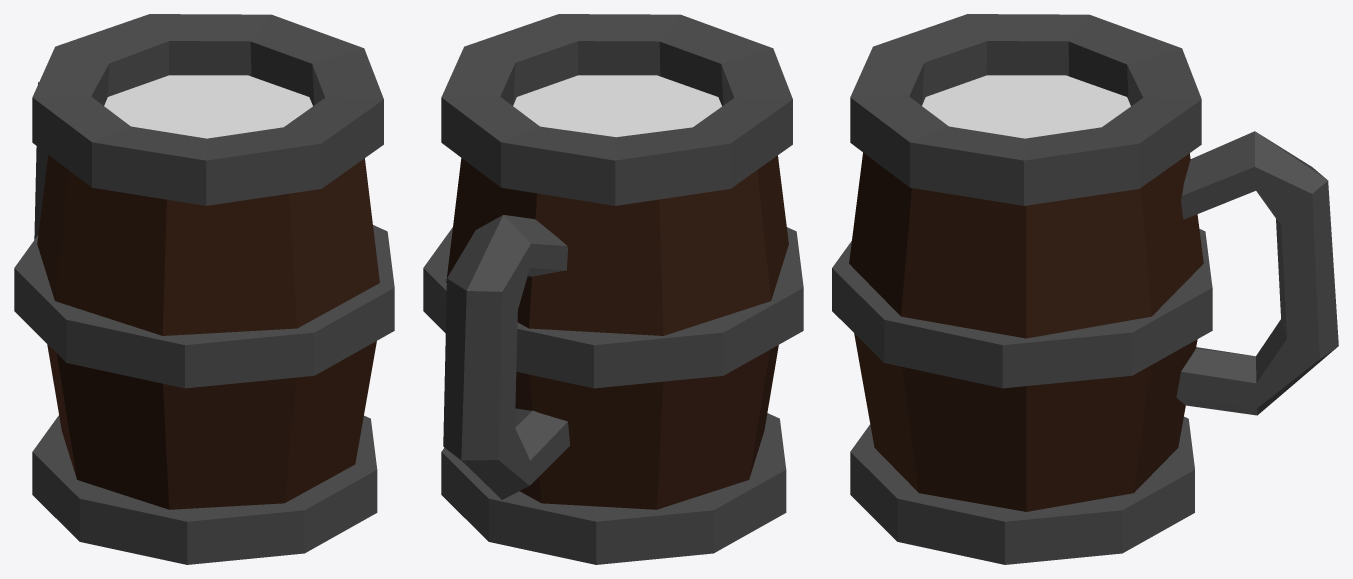
File: Grog.fbx
3 renders of one model, left to right at view 1: azimuth 30°, elevation 25°; view 2: azimuth 150°, elevation 25°; view 3: azimuth 270°, elevation 25°, orthographic.
Visible parts, largest first — view 1: Grog, TopBand, MiddleBand, BottomBand, Liquid, Handle; view 2: Grog, TopBand, Handle, BottomBand, MiddleBand, Liquid; view 3: Grog, TopBand, Handle, MiddleBand, BottomBand, Liquid.
Part boxes in pixels (<box>): Grog: <box>37,155,379,509</box>; TopBand: <box>32,14,383,205</box>; MiddleBand: <box>14,225,394,388</box>; BottomBand: <box>32,415,377,564</box>; Liquid: <box>104,75,312,138</box>; Handle: <box>34,82,48,239</box>; Grog: <box>446,155,788,509</box>; TopBand: <box>441,14,792,205</box>; Handle: <box>443,215,570,499</box>; BottomBand: <box>441,413,786,564</box>; MiddleBand: <box>423,227,803,388</box>; Liquid: <box>513,75,721,137</box>; Grog: <box>849,152,1203,511</box>; TopBand: <box>850,14,1201,205</box>; Handle: <box>1176,131,1338,415</box>; MiddleBand: <box>832,229,1212,388</box>; BottomBand: <box>850,416,1194,564</box>; Liquid: <box>922,75,1130,138</box>.
Size of the model in its own units: 95.6 by 72.2 by 84.47.
